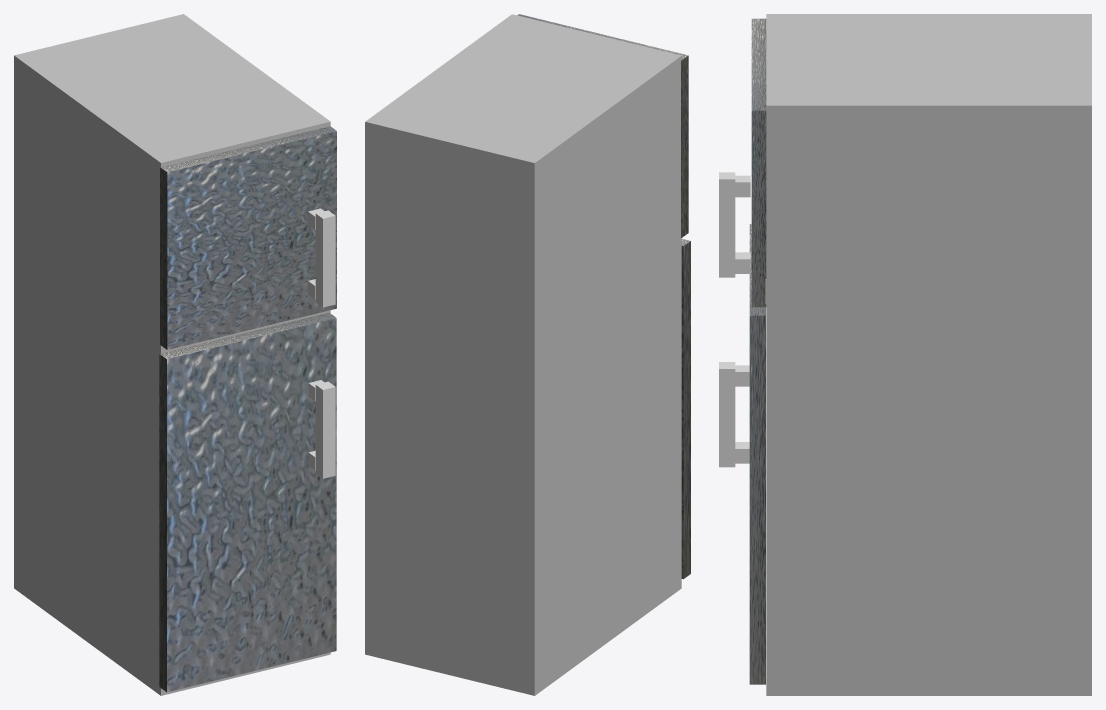
The model's file is Frigider.fbx.
3 renders of one model, left to right at view 1: azimuth 30°, elevation 25°; view 2: azimuth 150°, elevation 25°; view 3: azimuth 270°, elevation 25°, orthographic. The views are drawn at different scales.
Parts seen in each view (by area): view 1: Cube, Cube.005, Cube.006, Cube.008, Cube.007; view 2: Cube, Cube.005, Cube.006; view 3: Cube, Cube.005, Cube.006, Cube.008, Cube.007.
Part boxes in pixels (x1,y1,x2,y2): Cube: (14,14,330,695); Cube.005: (159,312,336,692); Cube.006: (160,126,336,349); Cube.008: (308,208,335,307); Cube.007: (308,380,335,478); Cube: (365,14,681,695); Cube.005: (681,239,690,579); Cube.006: (517,14,688,238); Cube: (765,14,1091,695); Cube.005: (749,224,765,684); Cube.006: (751,18,766,307); Cube.008: (719,172,750,277); Cube.007: (719,362,749,467).
Size of the model in its own units: 808 by 2400 by 1374.
